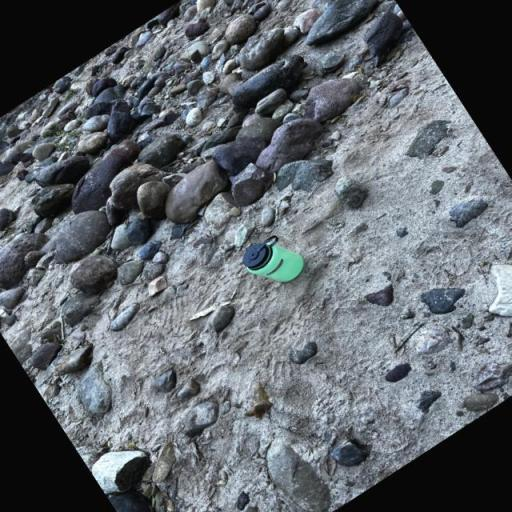bottle: (238, 226, 310, 296)
